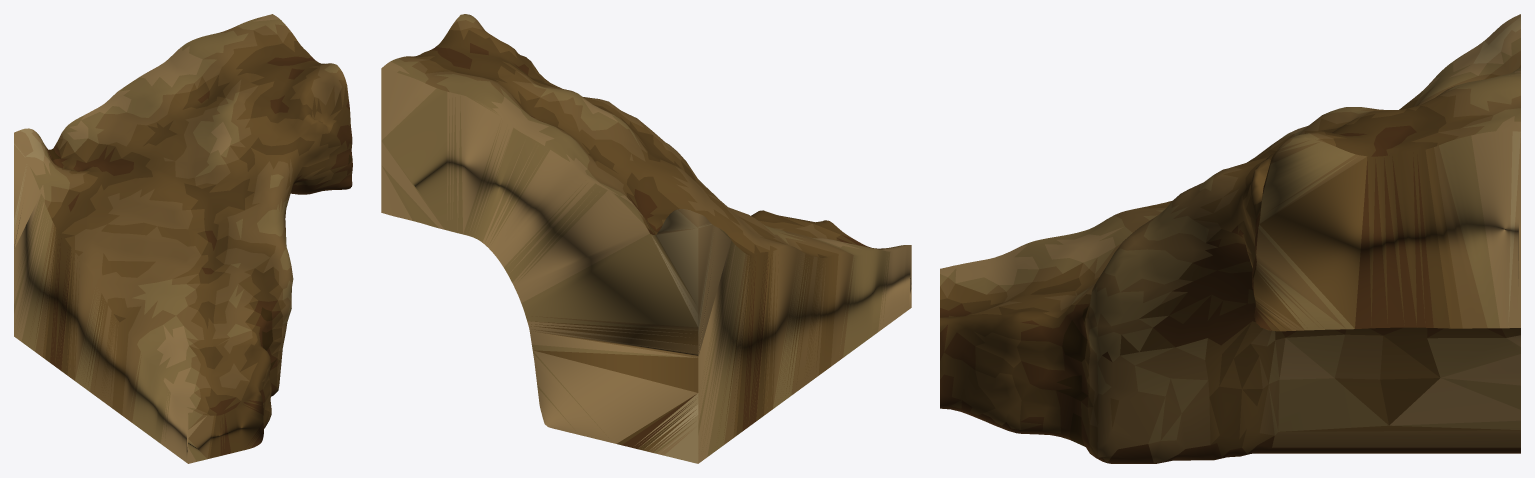
Rendered from rock_arch_202.glb.
The picture shows the model from 3 angles, left to right: view 1: azimuth 30°, elevation 25°; view 2: azimuth 150°, elevation 25°; view 3: azimuth 270°, elevation 25°; orthographic projection. The views are drawn at different scales.
Parts seen in each view (by area): view 1: rock_arch_202; view 2: rock_arch_202; view 3: rock_arch_202.
Part boxes in pixels (x1,y1,x2,y2): rock_arch_202: [14, 14, 352, 463]; rock_arch_202: [381, 14, 911, 463]; rock_arch_202: [940, 14, 1520, 463].
Bounding box in the file's own units: 24 × 23.06 × 28.
